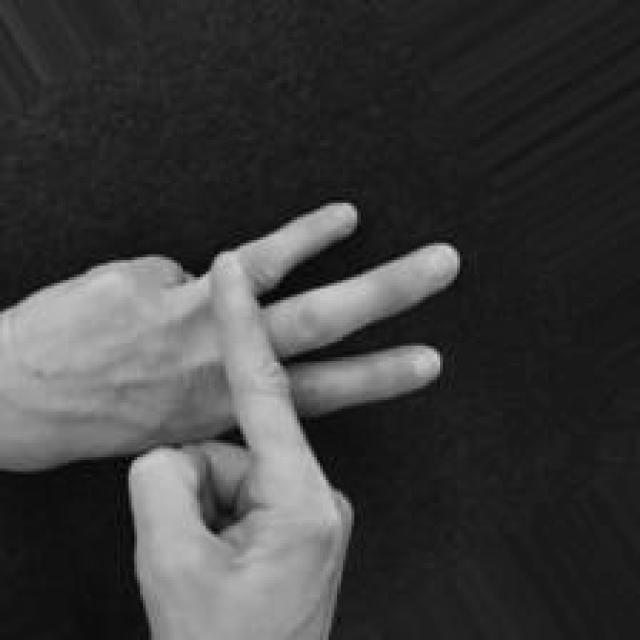E: (1, 195, 470, 640)
